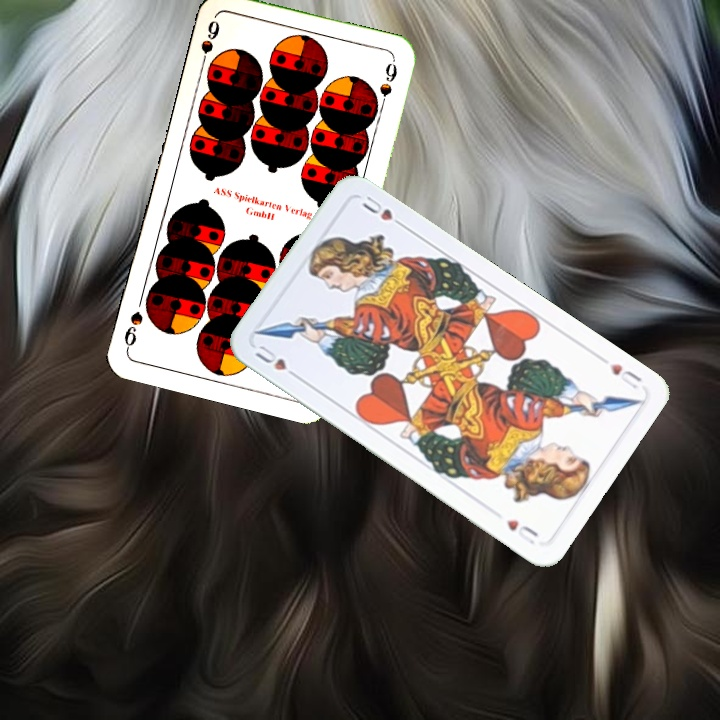HU: (251, 341, 303, 383), (606, 359, 644, 392)
S9: (196, 16, 222, 72)
